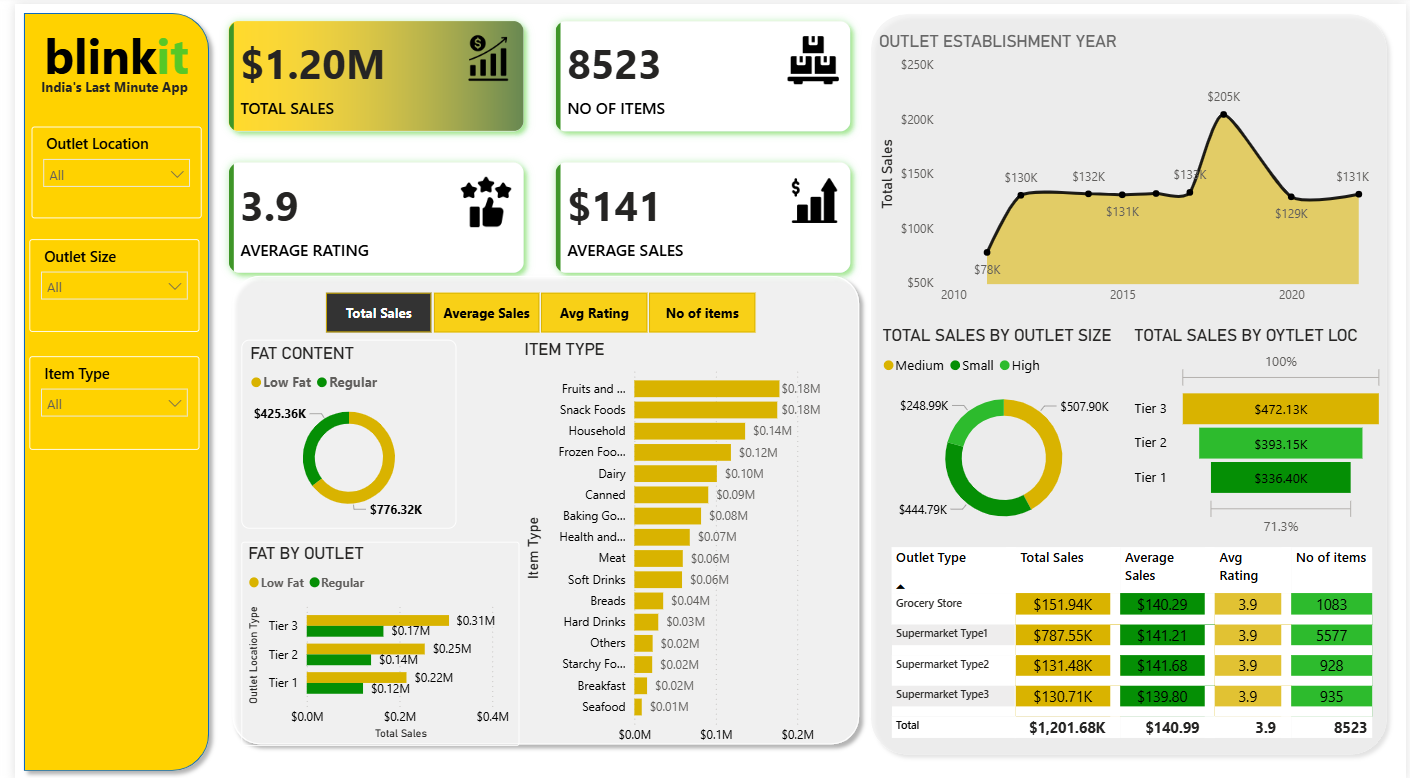

Layout of this report page (visuals, bound fields, positions):
{"tool":"powerbi","page":{"name":"Page 1","canvas":[1400,782],"ordinal":0},"visuals":[{"type":"shape","box":[0,0,204.4,781.1],"z":0},{"type":"textbox","box":[14.3,68.6,171.4,40],"z":1000},{"type":"textbox","box":[0,12.9,204.3,82.9],"z":2000},{"type":"cardVisual","fields":{"Data":["BlinkIT Grocery Data.Total Sales","BlinkIT Grocery Data.No of items","BlinkIT Grocery Data.Avg Rating","BlinkIT Grocery Data.Average Sales"]},"box":[197.8,0,661.1,288.9],"z":3000},{"type":"shape","box":[210,264.4,648.9,490],"z":4000},{"type":"donutChart","title":"FAT CONTENT","fields":{"Y":["BlinkIT Grocery Data.Total Sales"],"Category":["BlinkIT Grocery Data.Item Fat Content"]},"box":[227.8,337.8,216.7,190],"z":5000},{"type":"slicer","fields":{"Values":["Metrics.Metrics"]},"box":[286.7,283.3,482.2,54.4],"z":6000},{"type":"clusteredBarChart","title":"FAT BY OUTLET","fields":{"Y":["BlinkIT Grocery Data.Total Sales"],"Category":["BlinkIT Grocery Data.Outlet Location Type"],"Series":["BlinkIT Grocery Data.Item Fat Content"]},"box":[227.8,541.1,280,205.6],"z":7000},{"type":"barChart","title":"ITEM TYPE","fields":{"Y":["BlinkIT Grocery Data.Total Sales"],"Category":["BlinkIT Grocery Data.Item Type"]},"box":[507.5,337.5,325,416.2],"z":8000},{"type":"shape","box":[852.5,1.2,537.5,763.8],"z":9000},{"type":"lineChart","title":"OUTLET ESTABLISHMENT YEAR","fields":{"Category":["BlinkIT Grocery Data.Outlet Establishment Year"],"Y":["BlinkIT Grocery Data.Total Sales"]},"box":[864.4,27.8,505.6,283.3],"z":10000},{"type":"donutChart","title":"TOTAL SALES BY OUTLET SIZE","fields":{"Category":["BlinkIT Grocery Data.Outlet Size"],"Y":["BlinkIT Grocery Data.Total Sales"]},"box":[867.5,323.8,253.8,217.5],"z":11000},{"type":"funnel","title":"TOTAL SALES BY OYTLET LOC","fields":{"Category":["BlinkIT Grocery Data.Outlet Location Type"],"Y":["BlinkIT Grocery Data.Total Sales"]},"box":[1121.2,323.8,261.2,217.5],"z":12000},{"type":"pivotTable","fields":{"Rows":["BlinkIT Grocery Data.Outlet Type"],"Values":["BlinkIT Grocery Data.Total Sales","BlinkIT Grocery Data.Average Sales","BlinkIT Grocery Data.Avg Rating","BlinkIT Grocery Data.No of items"]},"box":[876.2,541.2,506.2,212.5],"z":13000},{"type":"slicer","fields":{"Values":["BlinkIT Grocery Data.Outlet Location Type"]},"box":[16.7,123.3,171.1,92.2],"z":13001},{"type":"slicer","fields":{"Values":["BlinkIT Grocery Data.Item Type"]},"box":[14.4,354.4,171.1,94.4],"z":13002},{"type":"slicer","fields":{"Values":["BlinkIT Grocery Data.Outlet Size"]},"box":[14.4,236.7,171.1,93.3],"z":13003}]}

Visuals, with their boxes in screenshot pixels (x1, y1, x2, y2), scaled from the page's 1400x782 canvas onto the 1410x778 screenshot:
shape: x1=0 y1=0 x2=206 y2=777
textbox: x1=14 y1=68 x2=187 y2=108
textbox: x1=0 y1=13 x2=206 y2=95
cardVisual - BlinkIT Grocery Data.Total Sales x BlinkIT Grocery Data.No of items: x1=199 y1=0 x2=865 y2=287
shape: x1=212 y1=263 x2=865 y2=751
"FAT CONTENT" donutChart: x1=229 y1=336 x2=448 y2=525
slicer - Metrics.Metrics: x1=289 y1=282 x2=774 y2=336
"FAT BY OUTLET" clusteredBarChart: x1=229 y1=538 x2=511 y2=743
"ITEM TYPE" barChart: x1=511 y1=336 x2=838 y2=750
shape: x1=859 y1=1 x2=1400 y2=761
"OUTLET ESTABLISHMENT YEAR" lineChart: x1=871 y1=28 x2=1380 y2=310
"TOTAL SALES BY OUTLET SIZE" donutChart: x1=874 y1=322 x2=1129 y2=539
"TOTAL SALES BY OYTLET LOC" funnel: x1=1129 y1=322 x2=1392 y2=539
pivotTable - BlinkIT Grocery Data.Outlet Type x BlinkIT Grocery Data.Total Sales: x1=882 y1=538 x2=1392 y2=750
slicer - BlinkIT Grocery Data.Outlet Location Type: x1=17 y1=123 x2=189 y2=214
slicer - BlinkIT Grocery Data.Item Type: x1=15 y1=353 x2=187 y2=447
slicer - BlinkIT Grocery Data.Outlet Size: x1=15 y1=235 x2=187 y2=328
